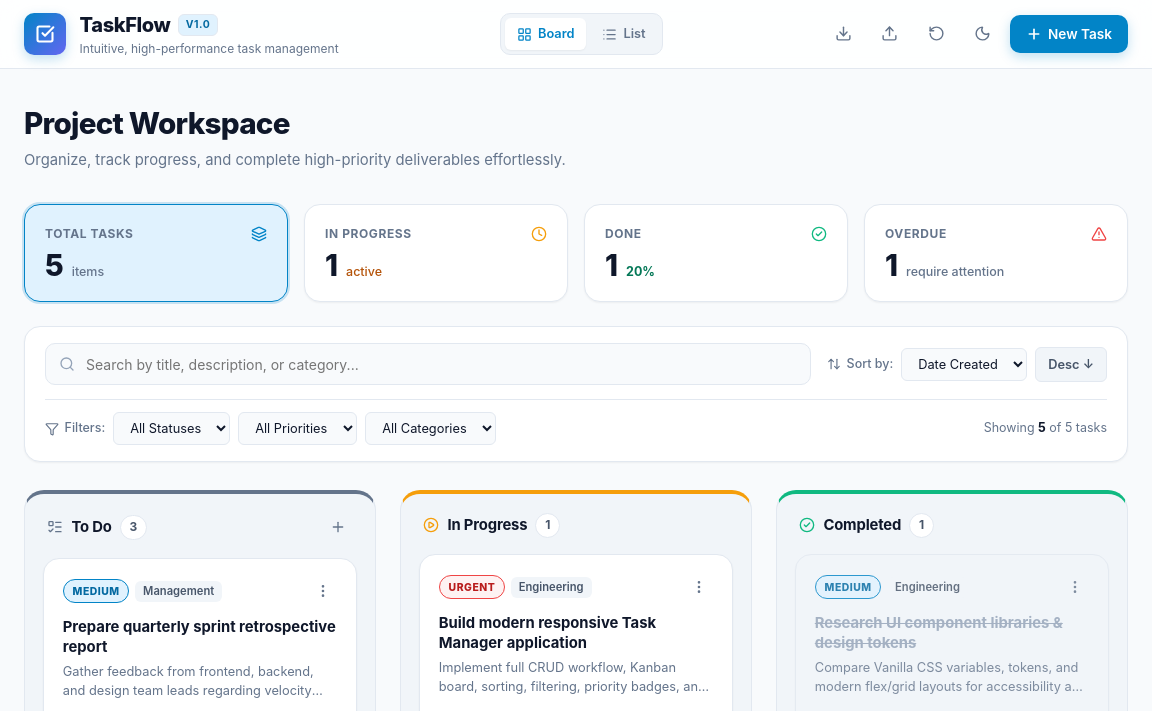
TaskFlow Application UI & Workflows › opens New Task modal, submits a new task, and renders it
Click the button "New Task" at (1069, 34), box [1010,15,1128,53]
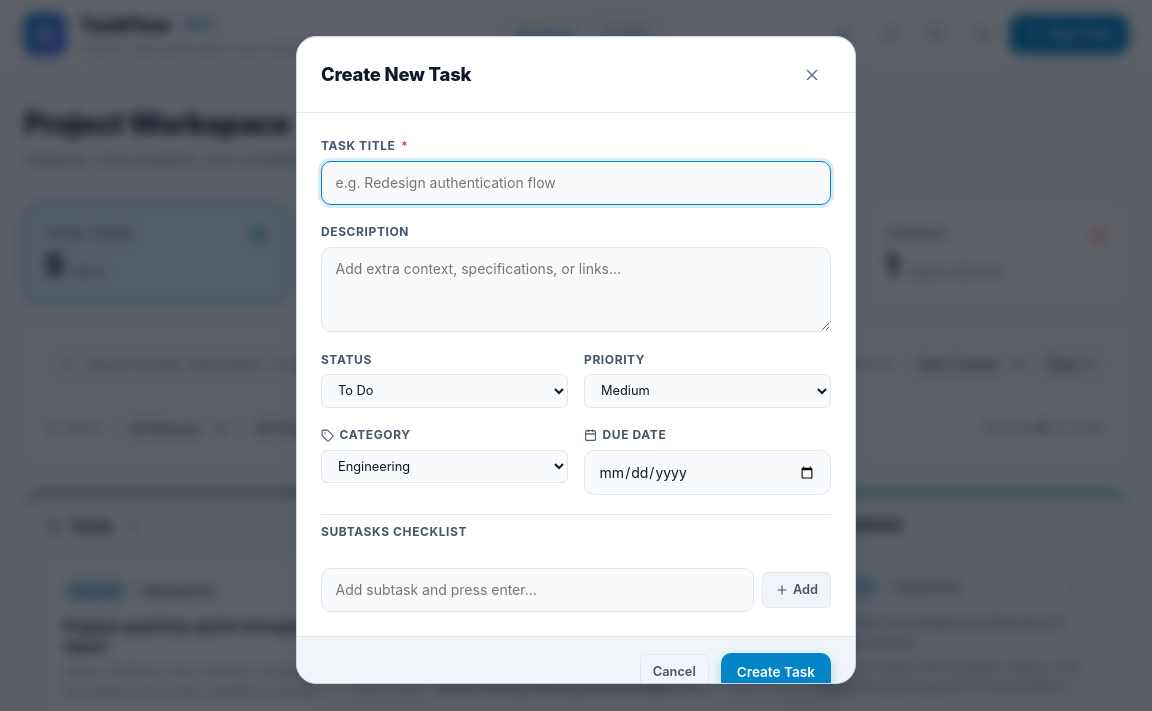
Check: the heading "Create New Task" is shown, box [321,61,471,88]
Type "Ship Production Release v1" into the field with placeholder "e.g. Redesign authentication flow" at (576, 183), box [321,161,831,205]
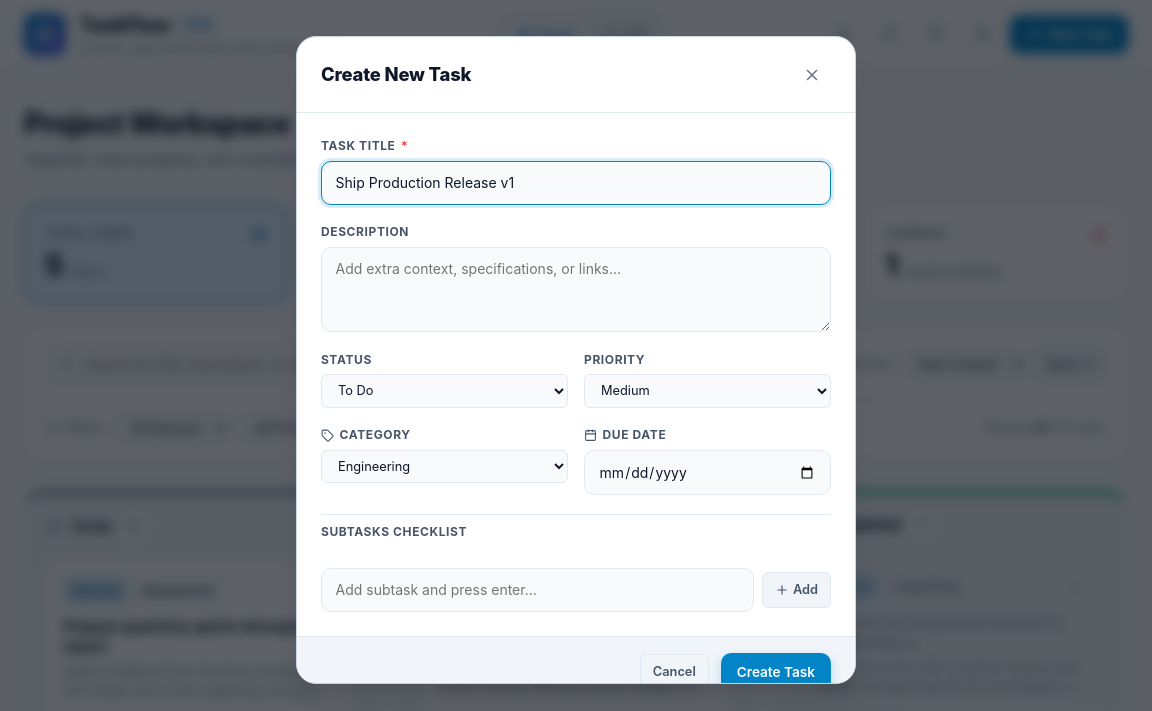
Type "Complete final signoff and deployment" into the text box with placeholder "Add extra context, specifications, or links..." at (576, 289), box [321,246,831,332]
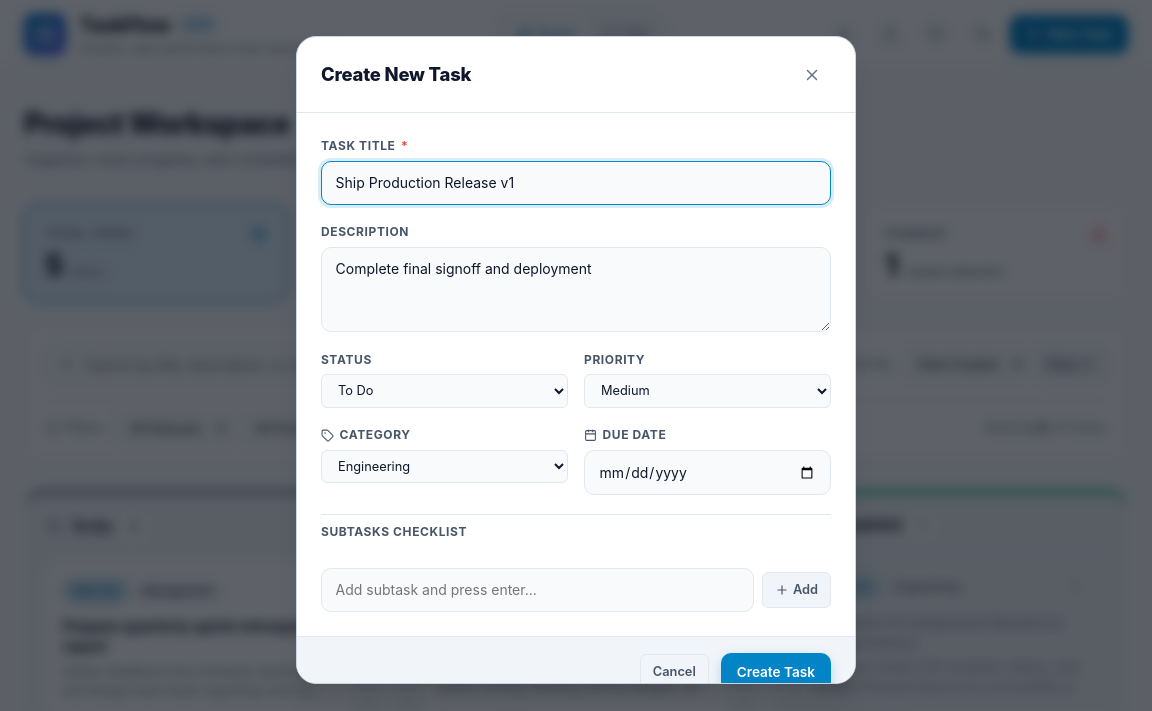
Click the button "Create Task" at (776, 672), box [721,653,831,691]
(page scrolled)
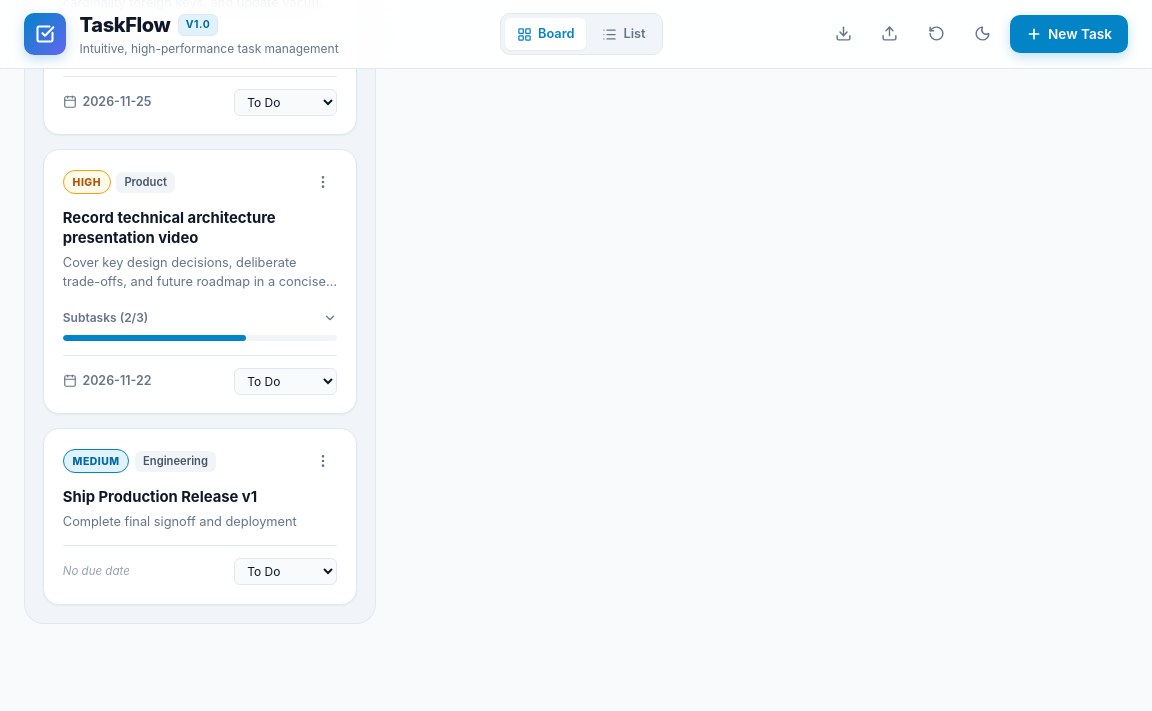
Check: the heading "Ship Production Release v1" is shown, box [63,488,257,506]
